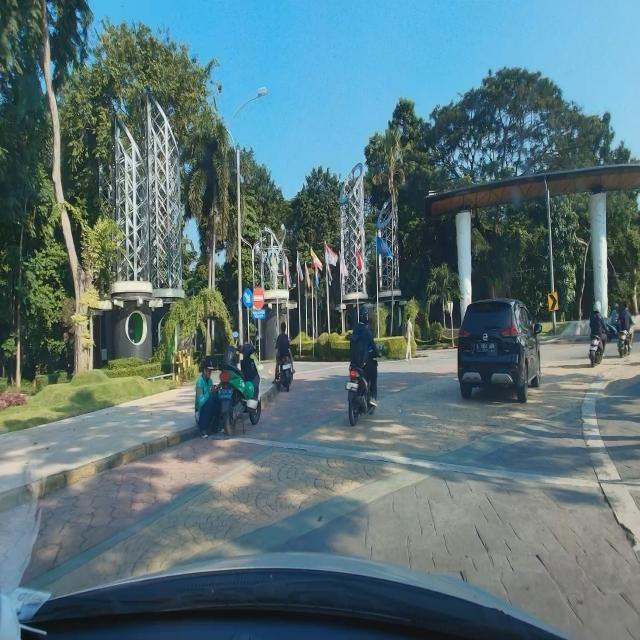car: (457, 297, 542, 405)
license-plate: (477, 342, 495, 352)
